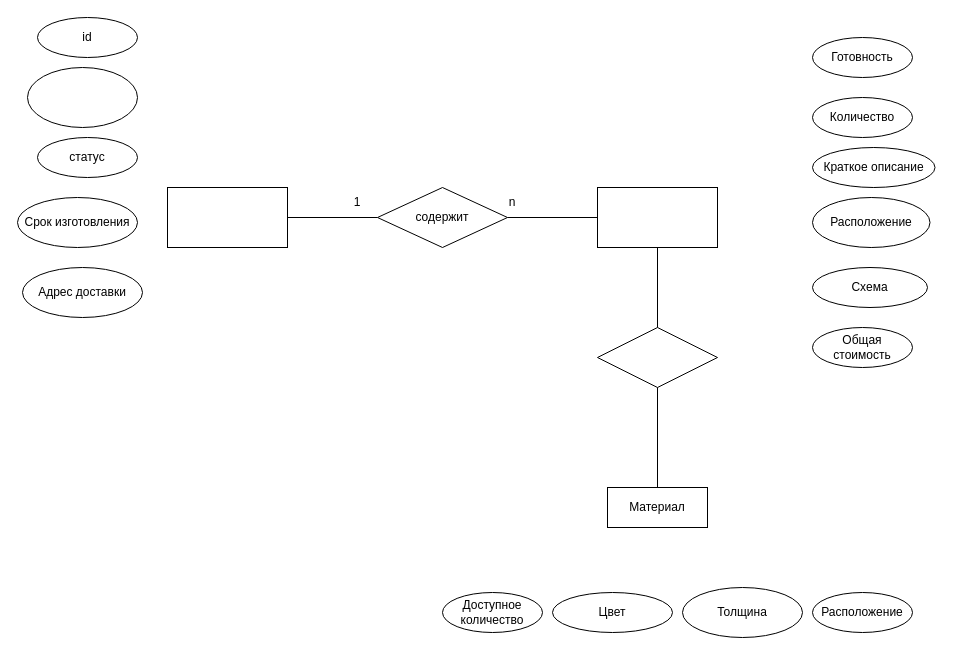
The diagram is 953 pixels wide and 655 high, and some of its shapes have lost their labels. The shapes that lost their labels are listed below. From the top down, each one's centre as x and y in pixels, then its label:
the point at 82,97: Дата приёма
the point at 227,217: Заказ
the point at 657,217: Позиция заказа
the point at 657,357: может иметь
